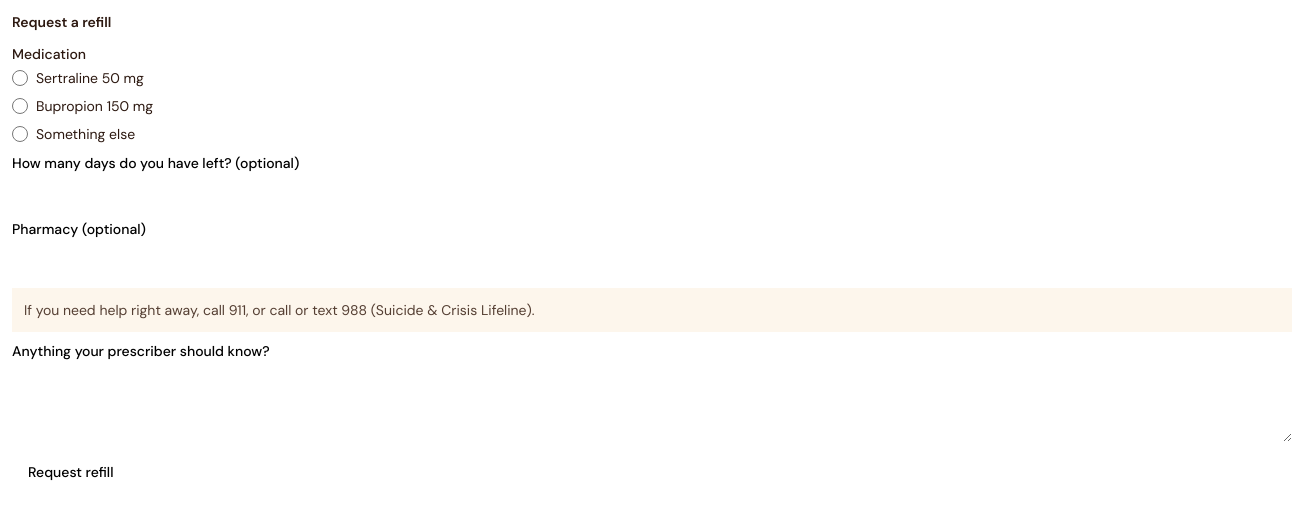
Test: RefillRequestForm › clears the form after a successful send
The image size is (1304, 507).
Click the radio button labelled "Sertraline 50 mg" at {"x": 20, "y": 78}, box x1=12 y1=70 x2=28 y2=86
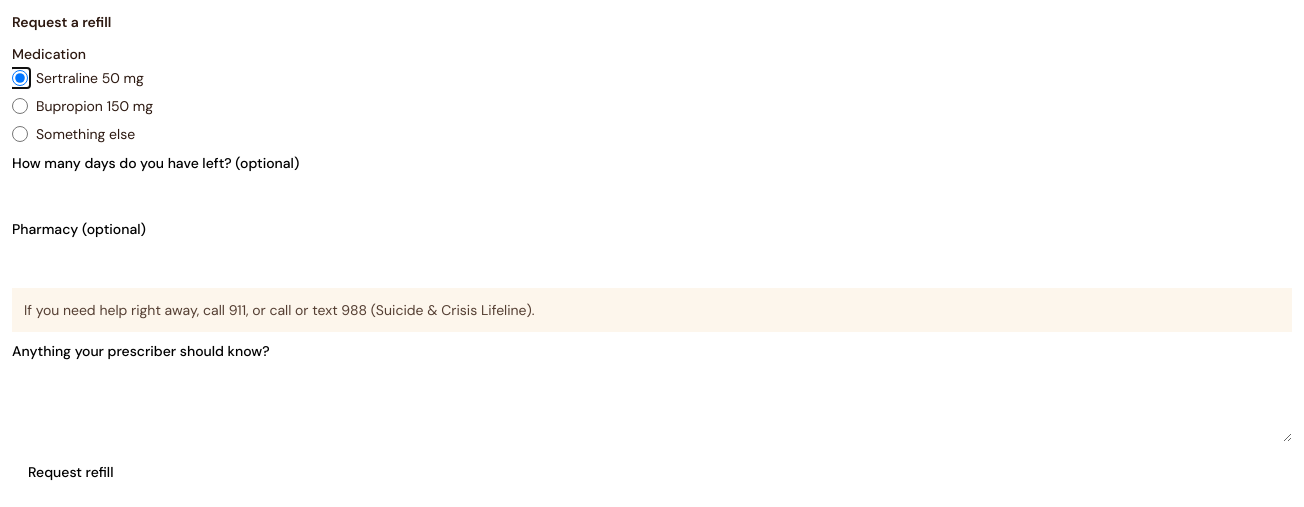
Type "Thanks" into the text box with test id "portal-refills-note" at {"x": 652, "y": 402}, box x1=12 y1=362 x2=1292 y2=442
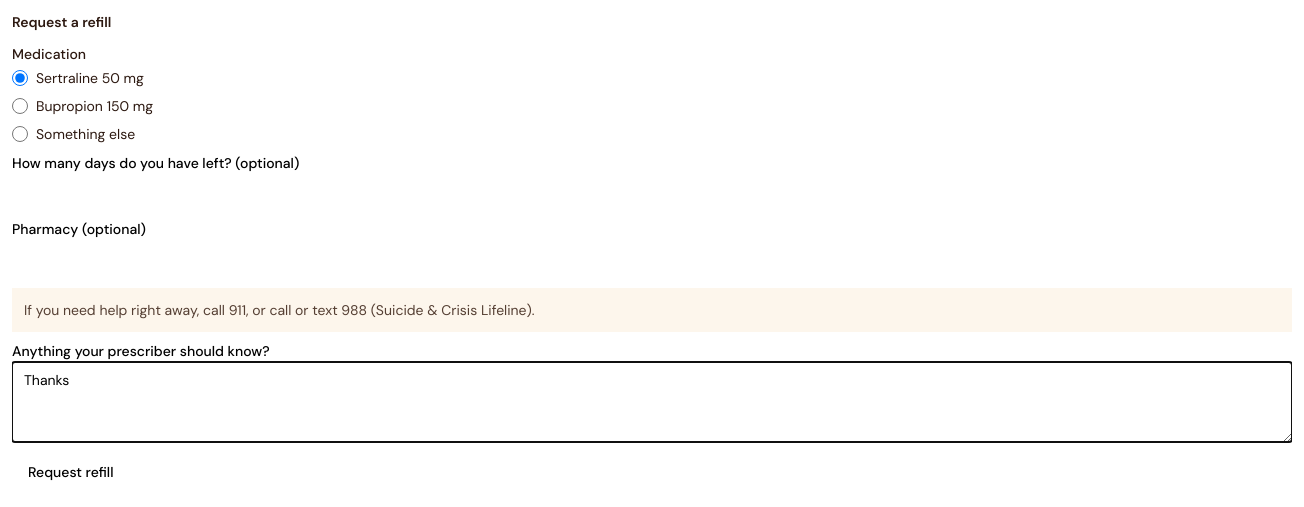
Click the button with test id "portal-refills-submit" at {"x": 71, "y": 472}, box x1=12 y1=454 x2=130 y2=490
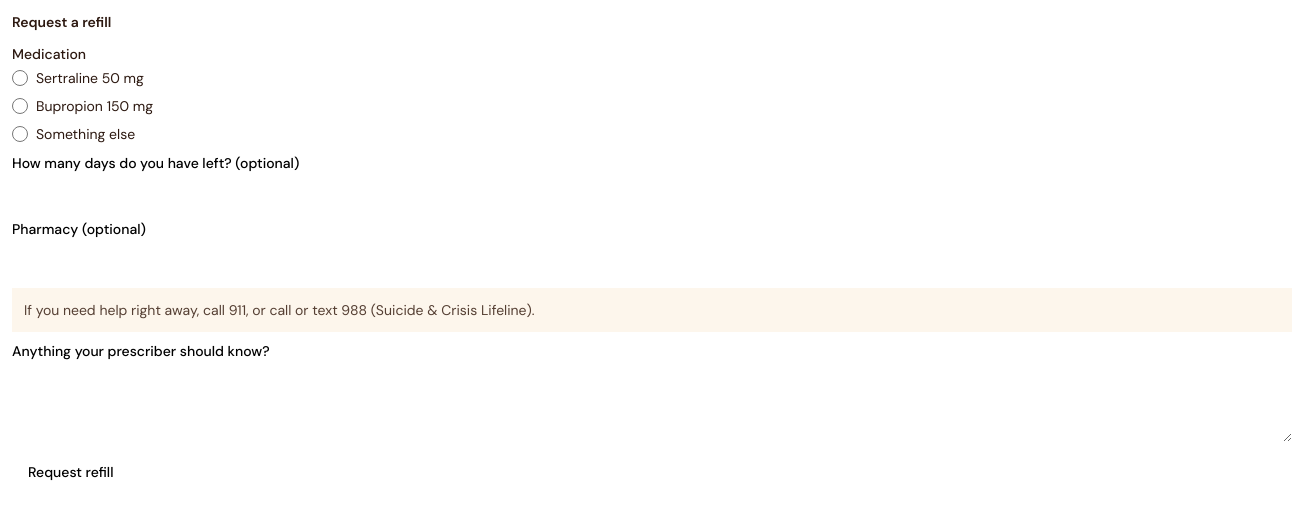
expect the radio button labelled "Sertraline 50 mg" is not checked: met, box x1=12 y1=70 x2=28 y2=86
expect the text box with test id "portal-refills-note" is empty: met, box x1=12 y1=362 x2=1292 y2=442
